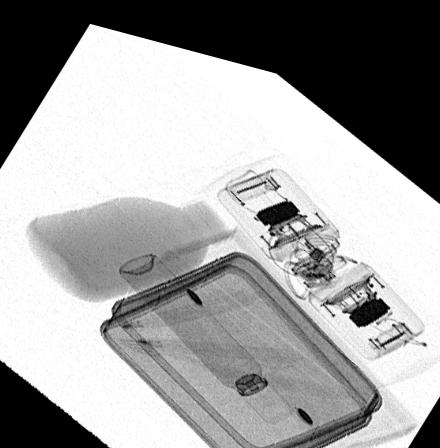Sprayer: (119, 246, 294, 411)
